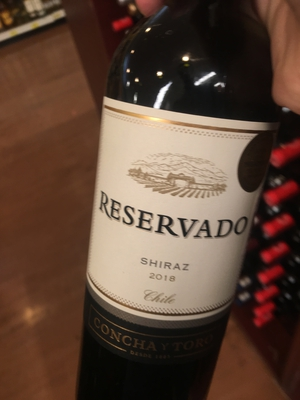reservado shiraz: (72, 14, 265, 400)
